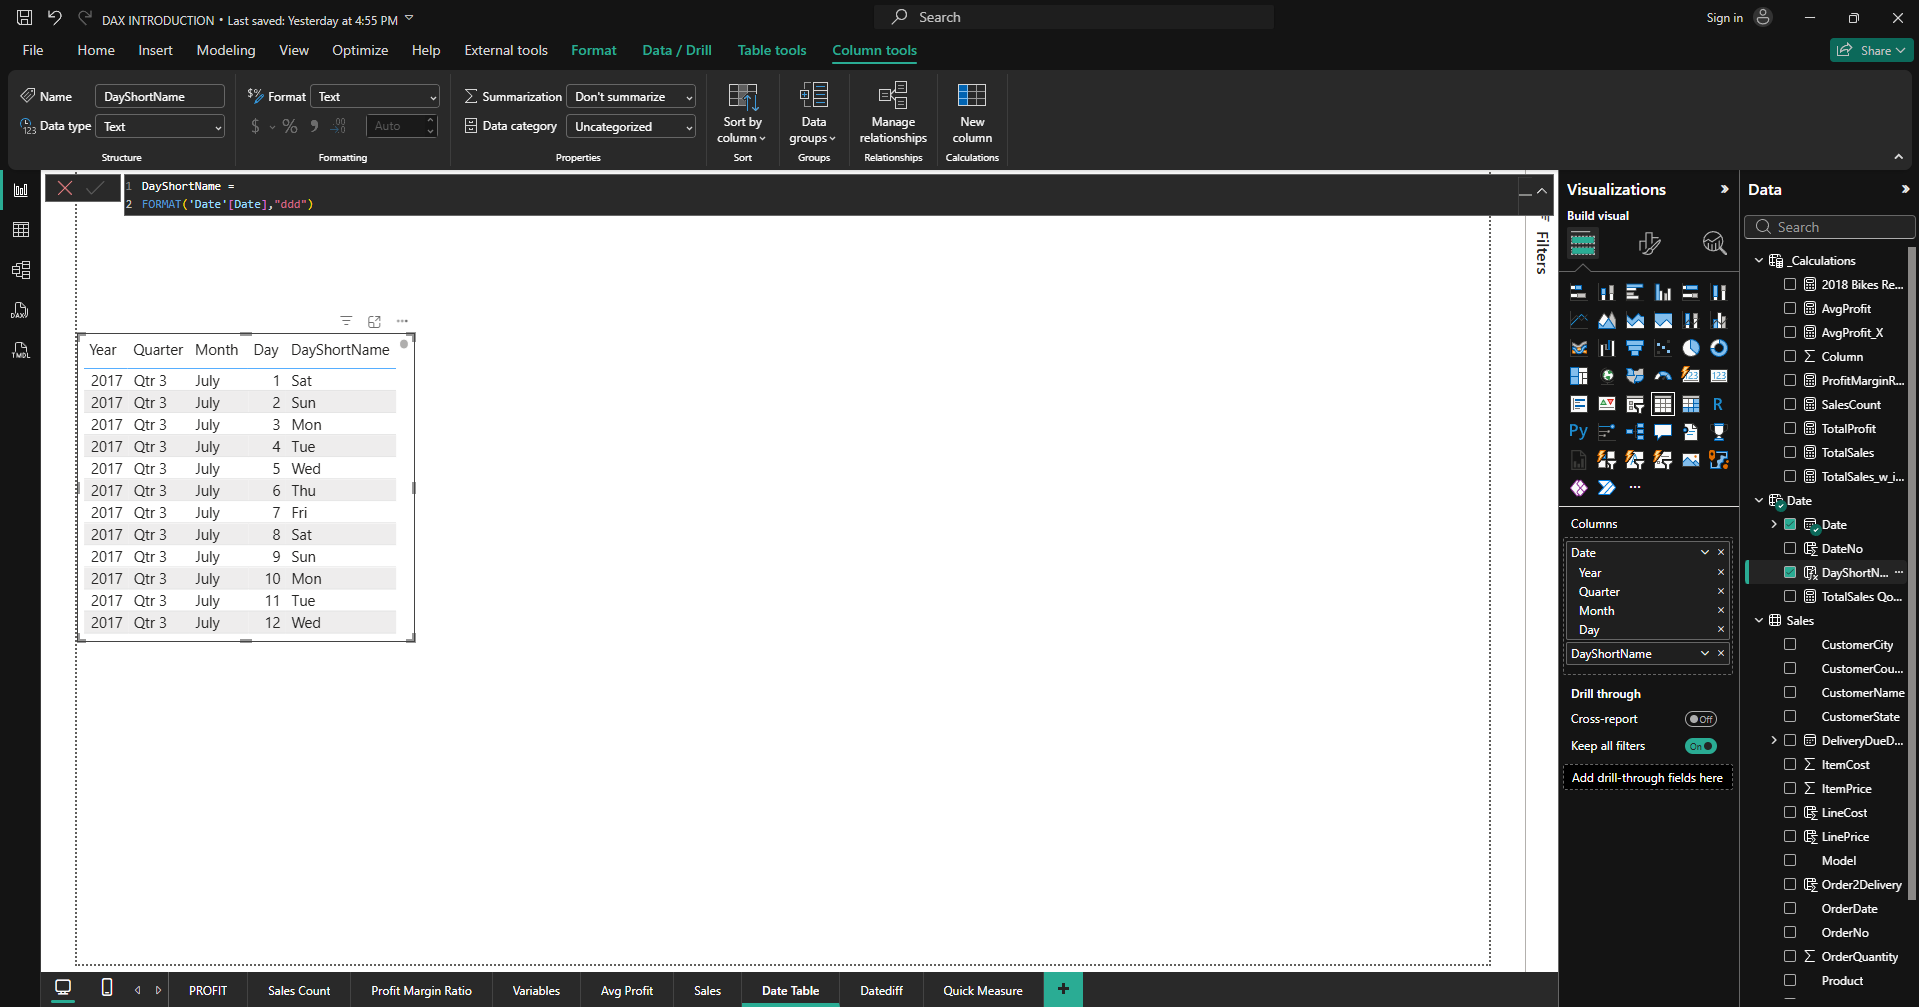

Layout of this report page (visuals, bound fields, positions):
{"tool":"powerbi","page":{"name":"Date Table","canvas":[1280,720],"ordinal":6},"visuals":[{"type":"tableEx","fields":{"Values":["Date.Date.Variation.Date Hierarchy.Year","Date.Date.Variation.Date Hierarchy.Quarter","Date.Date.Variation.Date Hierarchy.Month","Date.Date.Variation.Date Hierarchy.Day","Date.DayShortName"]},"box":[10,0,306.5,280.2],"z":0}]}

Visuals, with their boxes on the page's 1280x720 design canvas (x1, y1, x2, y2). These are canvas units, not pixel positions in the 1919x1007 screenshot, which may show the page scaled, cropped or inside an application window:
tableEx - Date.Date.Variation.Date Hierarchy.Year x Date.Date.Variation.Date Hierarchy.Quarter: bbox=(10, 0, 316, 280)
